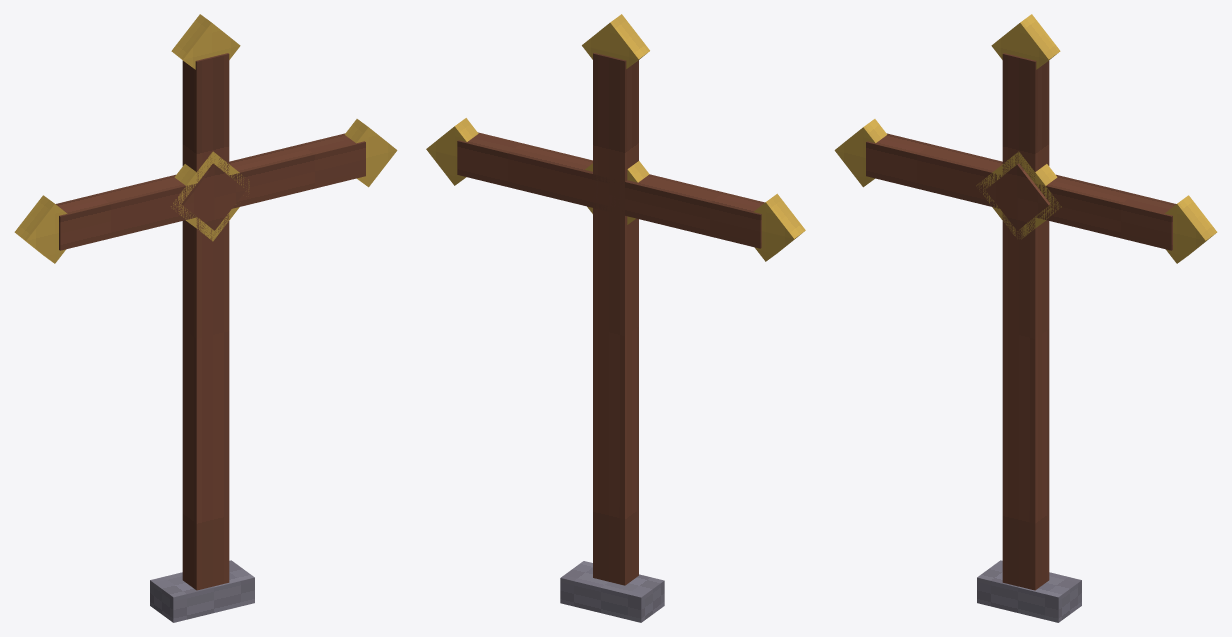
File: rood-cross.glb
3 views of the same model, side by side, from view 1: azimuth 30°, elevation 25°; view 2: azimuth 150°, elevation 25°; view 3: azimuth 330°, elevation 25° (orthographic).
Visible parts, largest first — view 1: rood-cross.001; view 2: rood-cross.001; view 3: rood-cross.001.
Part boxes in pixels (<box>): rood-cross.001: <box>14,14,397,622</box>; rood-cross.001: <box>426,14,805,622</box>; rood-cross.001: <box>834,14,1217,622</box>.
Bounding box in the file's own units: 1.82 × 2.76 × 0.205.
Materials: 1 (1 with a texture image).
